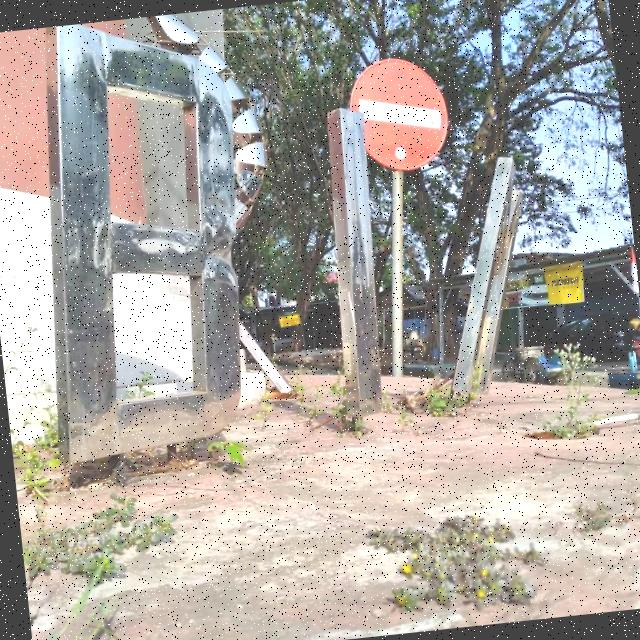Zakaz wjazdu: (346, 52, 450, 176)
